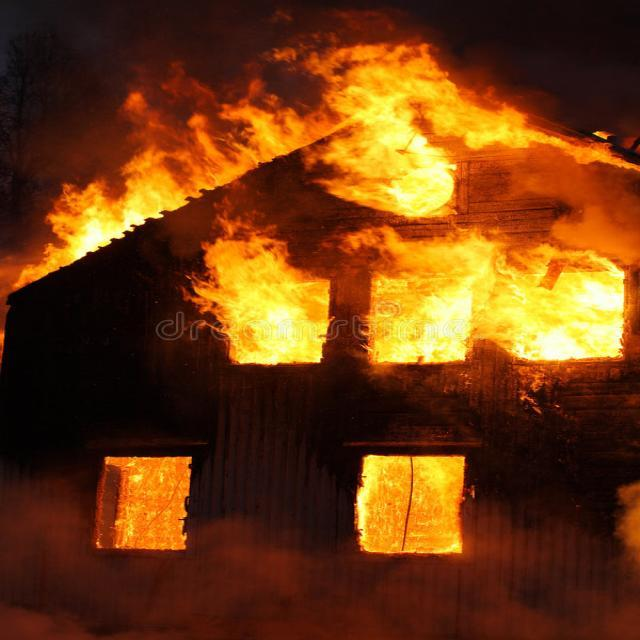Fire: (166, 225, 624, 368), (304, 28, 498, 216), (74, 77, 291, 190)
